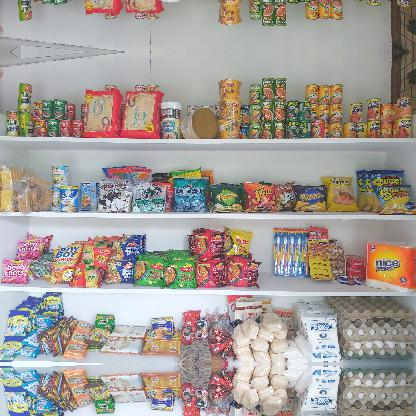Lady-s-Choice: (180, 108, 218, 138)
